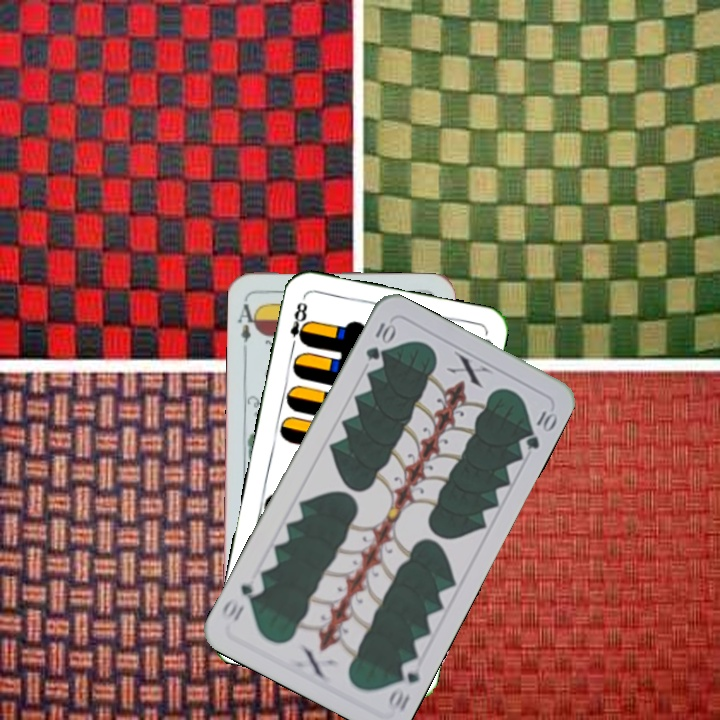E8: (286, 298, 312, 353)
EA: (234, 295, 261, 345)
G10: (384, 655, 424, 714), (361, 317, 398, 363)
